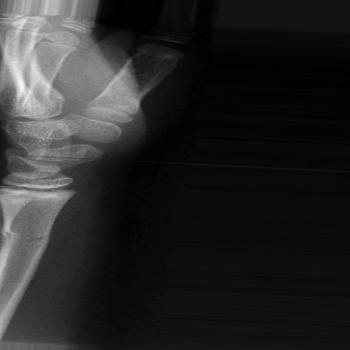Fracture: (0, 228, 64, 251)
